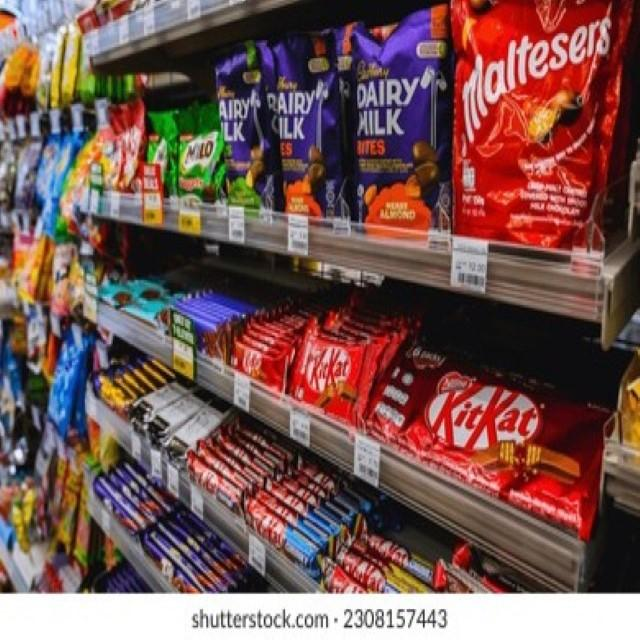cadbury_chocolate: (355, 18, 435, 228), (275, 28, 345, 222), (218, 40, 284, 227)
